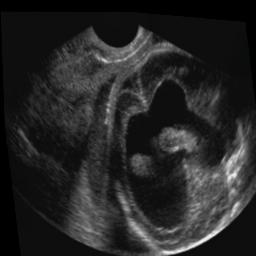abnormal: (90, 37, 255, 238)
